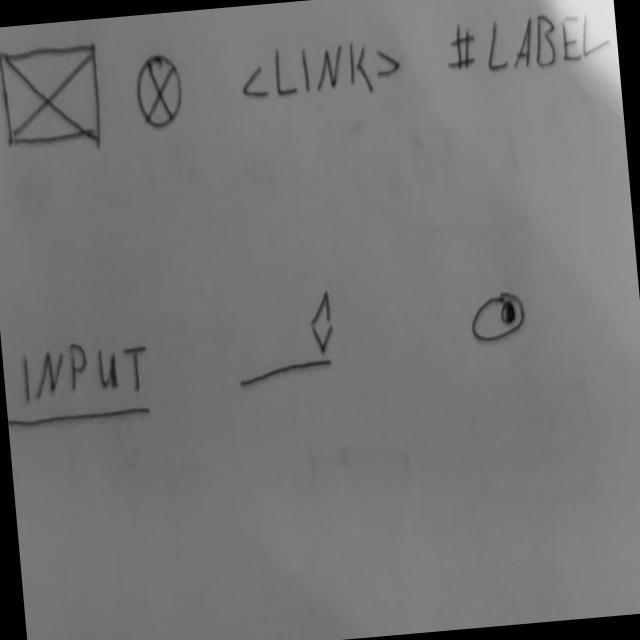image: (1, 38, 108, 156), (134, 50, 188, 134)
input: (2, 334, 157, 435)
label: (444, 4, 615, 85)
link: (237, 31, 406, 109)
number-input: (228, 286, 344, 394)
toggle: (468, 288, 530, 346)
